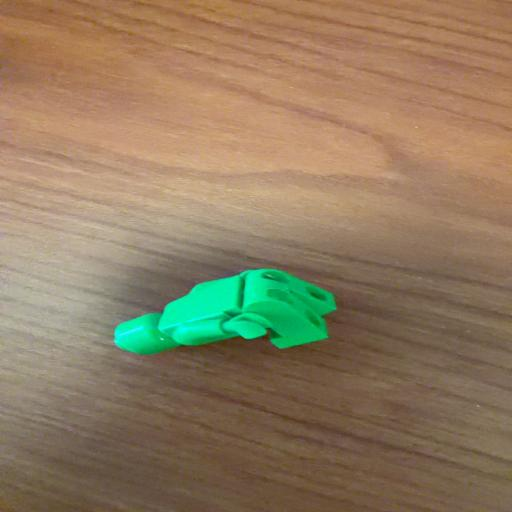UnoQ-minifig-detector: (115, 269, 336, 353)
